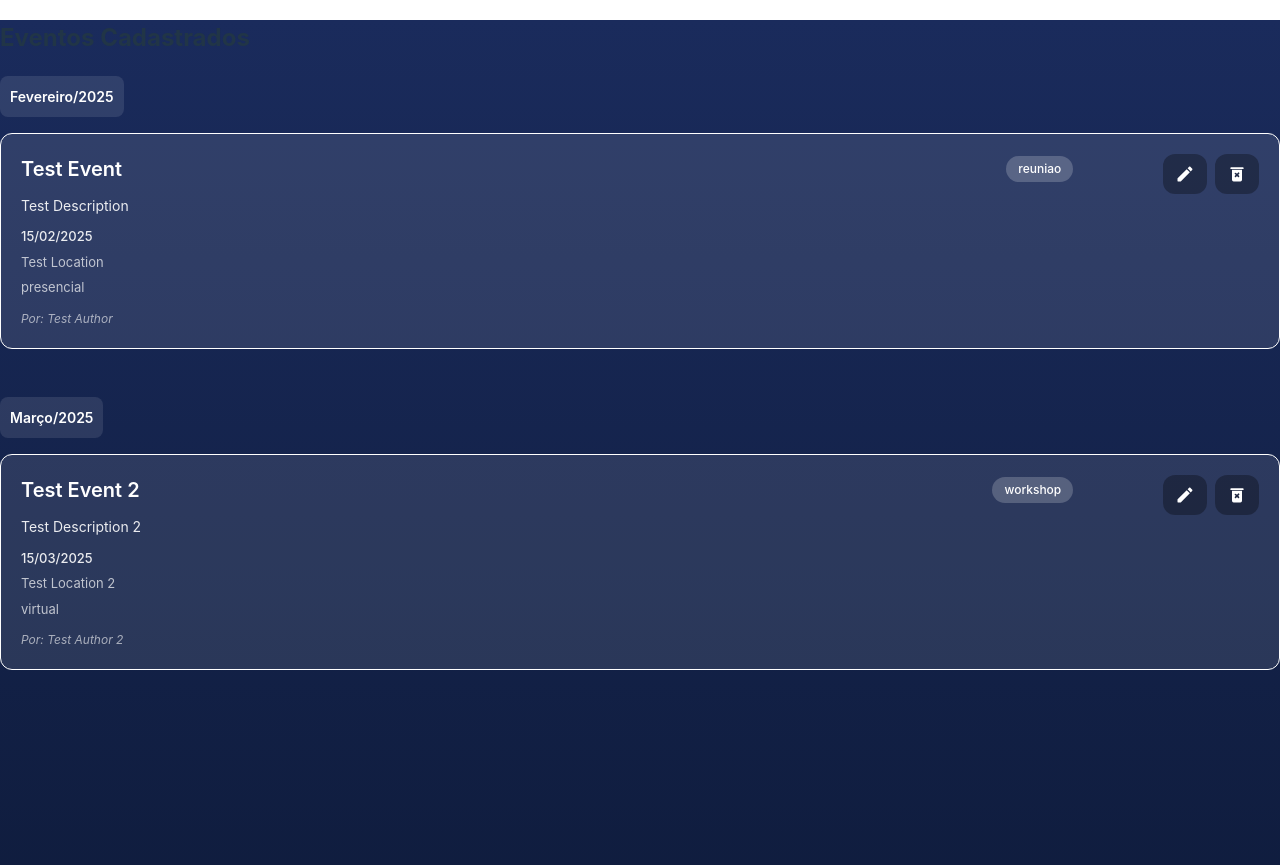
EventsList › should prevent editing events in the past
Click the button titled "Editar" next to "reuniao" at (1185, 174), box [1163,154,1207,194]
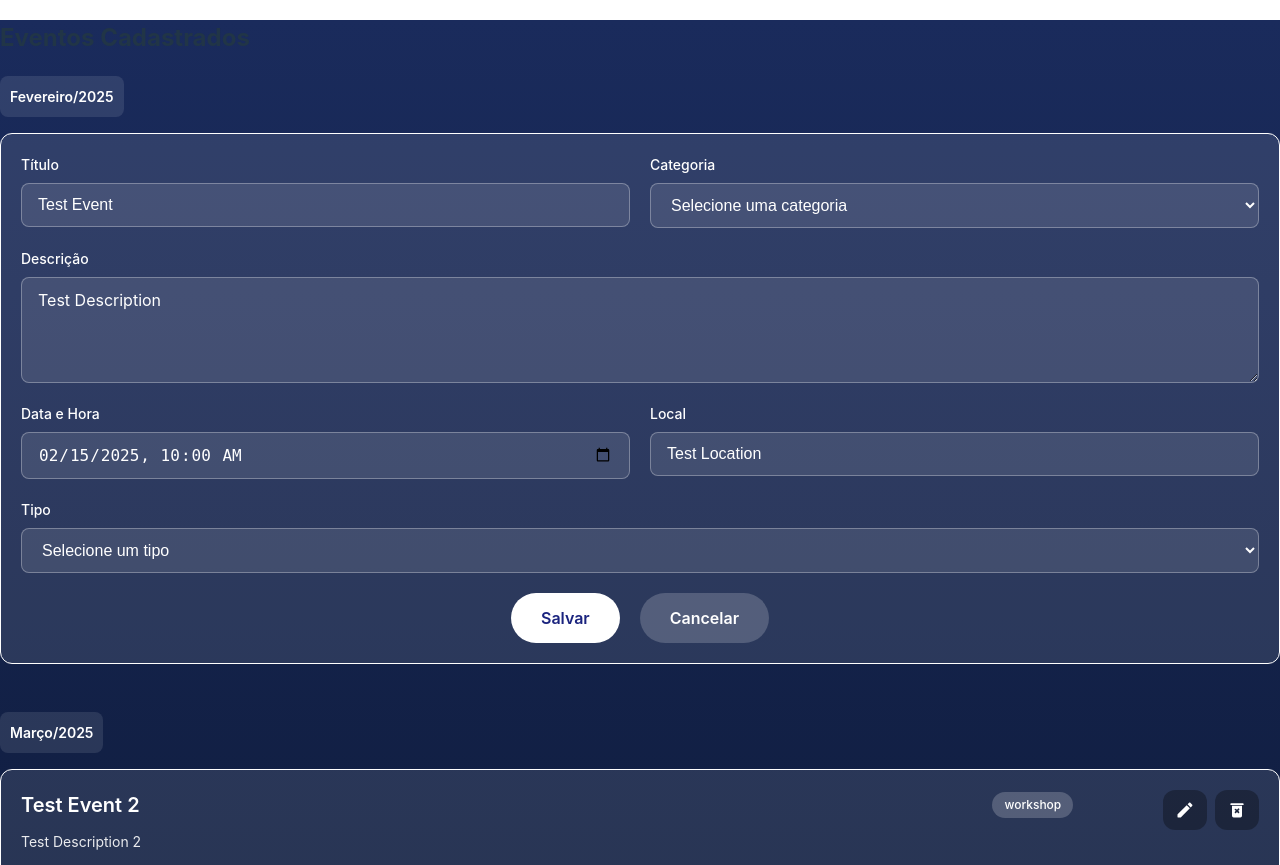
Replace the text in the field showing "2025-02-15T" with "2023-01-01T10:00" at (326, 455), box [21,432,630,479]
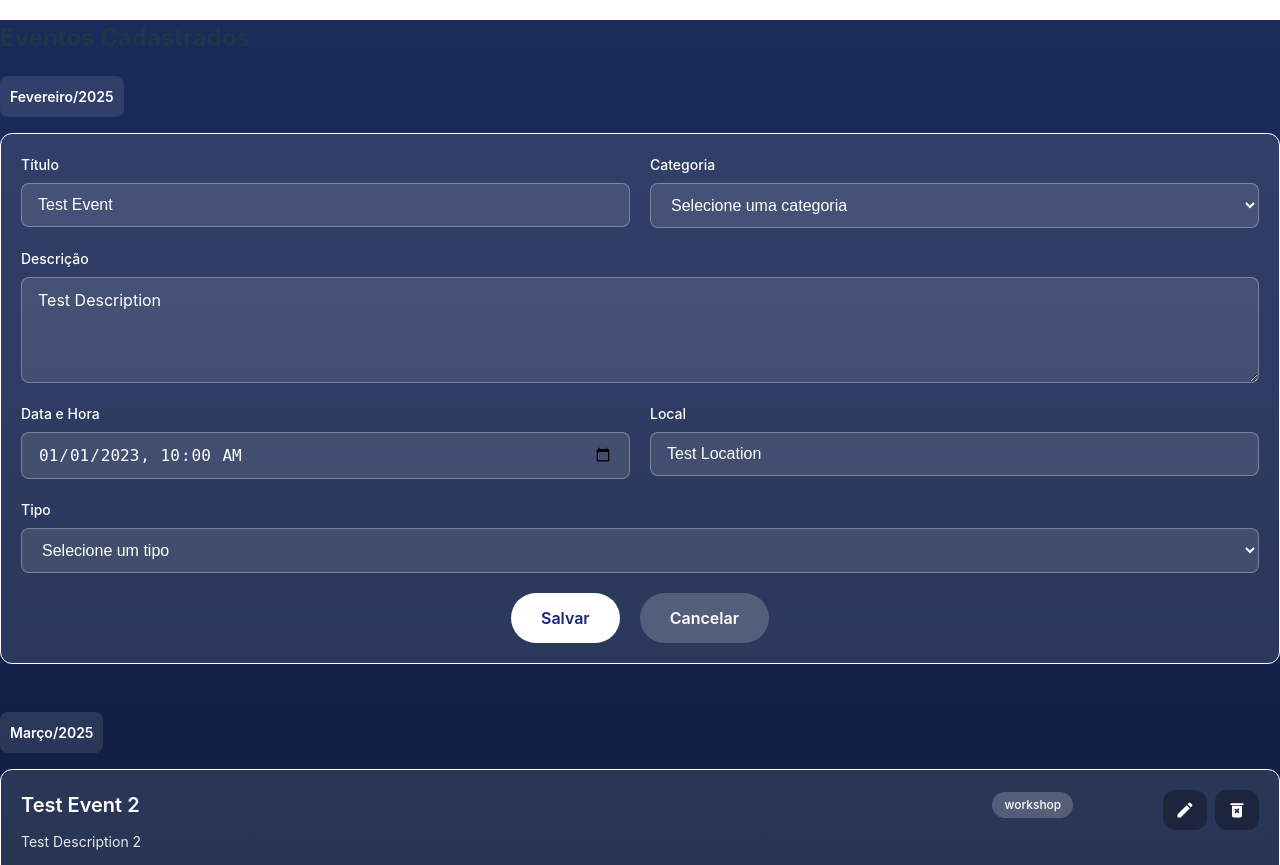
Click the button "Salvar" at (565, 618), box [511,593,620,643]
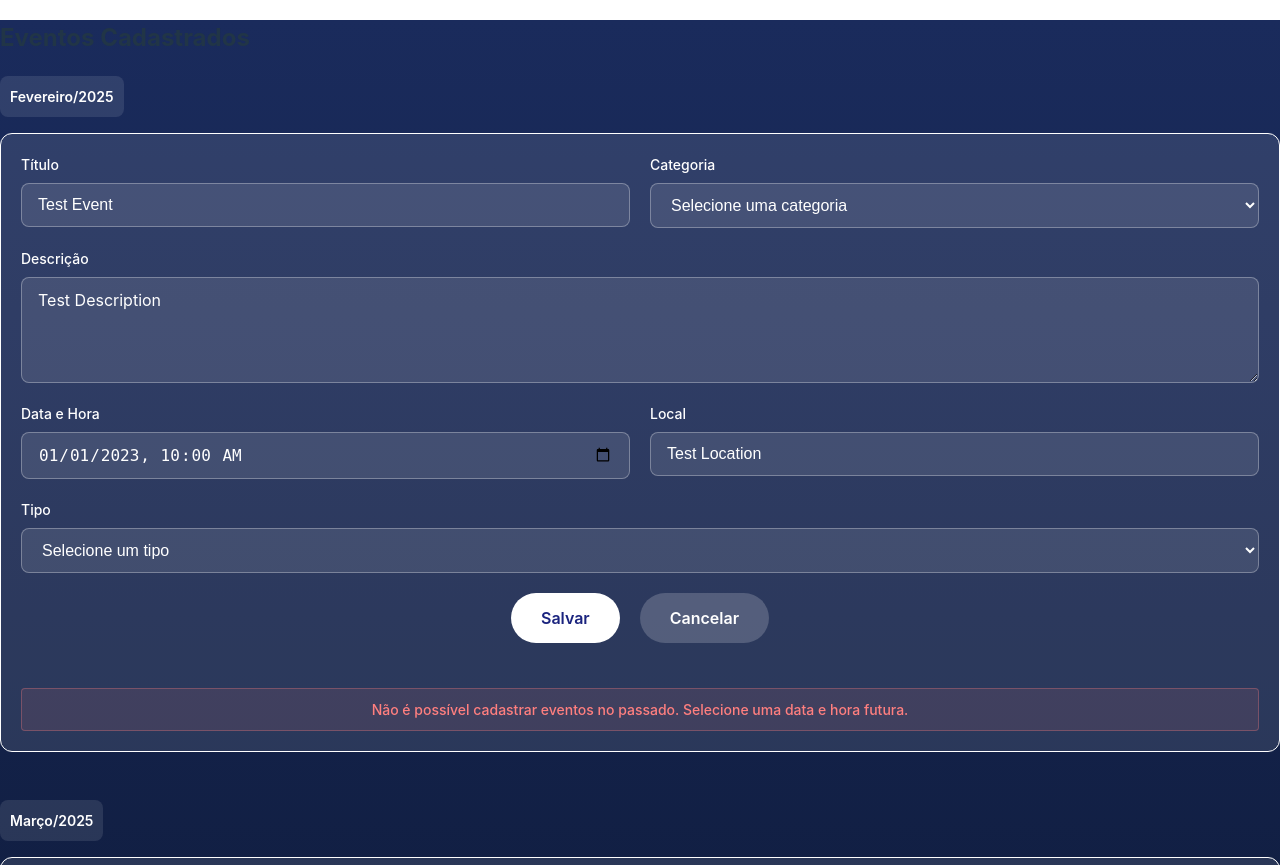
Check: the text "Não é possível cadastrar eventos no passado. Selecione uma data e hora futura." is shown, box [21,688,1259,731]
